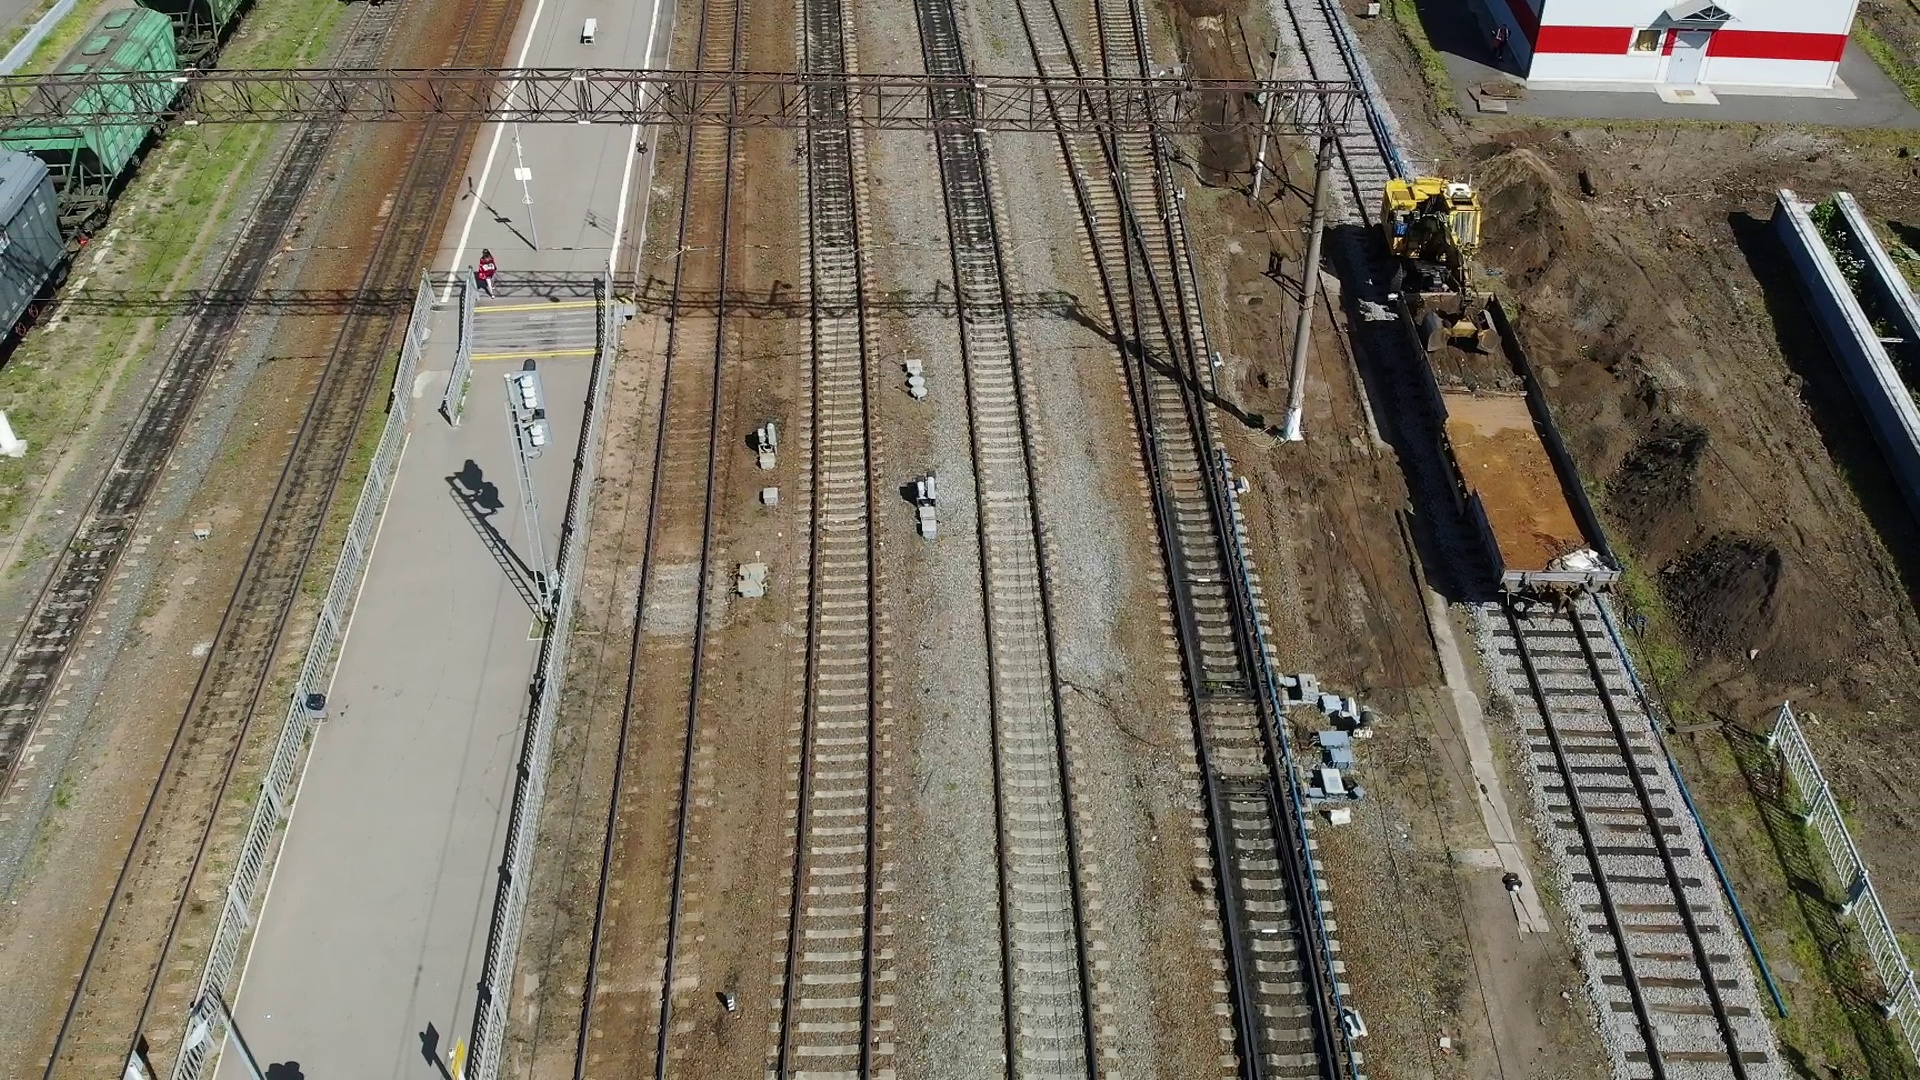kjtv: (1371, 164, 1486, 295)
